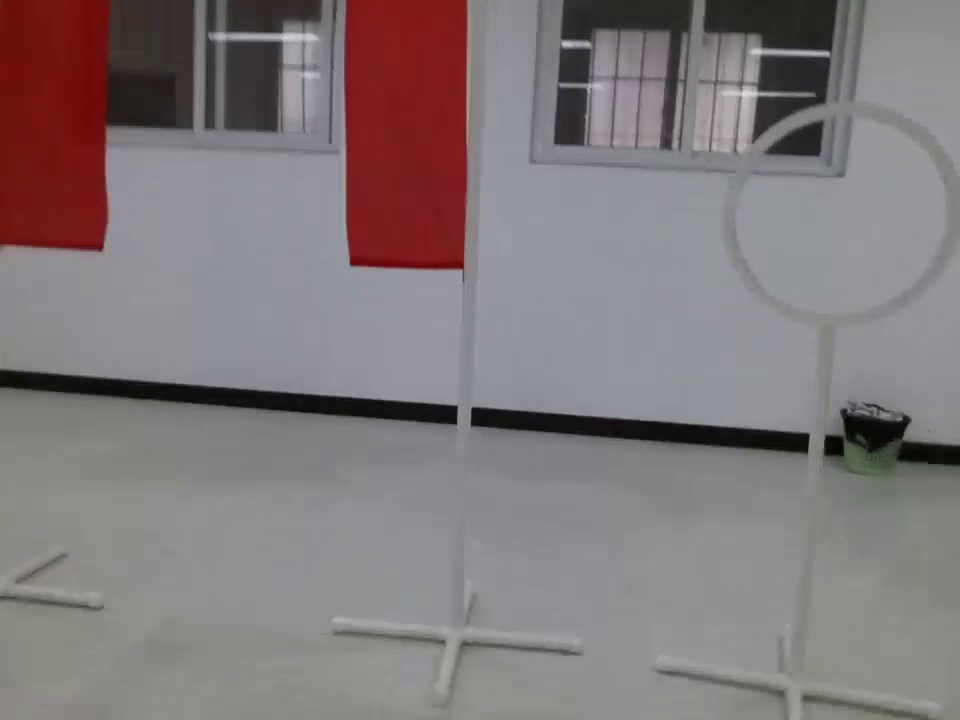qi: (343, 1, 475, 309), (1, 1, 107, 257)
quan: (726, 100, 960, 371)
